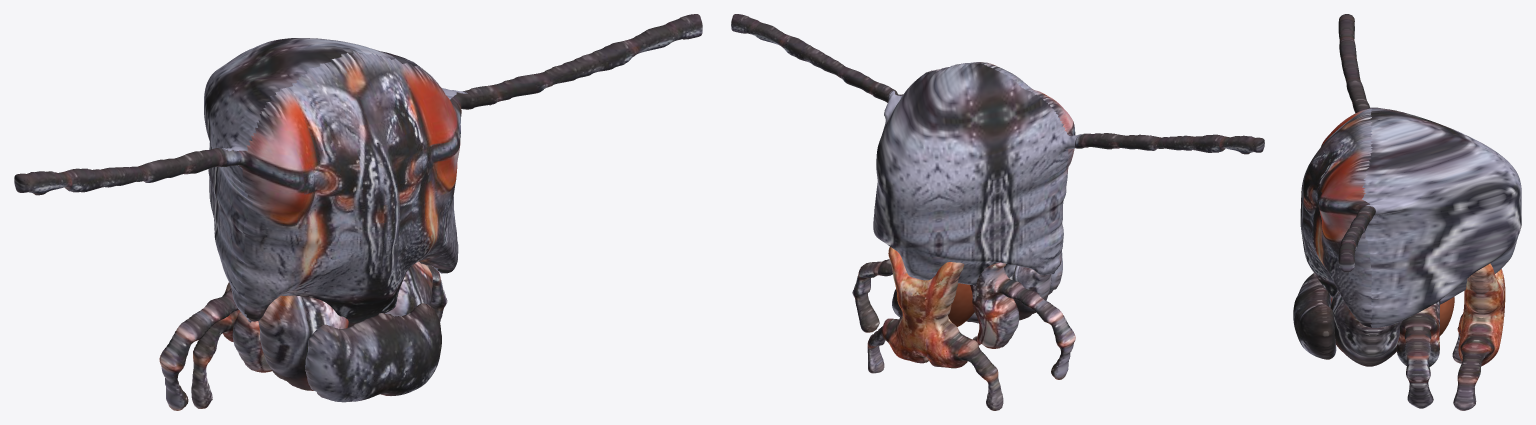
Rendered from grasshopper_mouthparts.glb.
3 renders of one model, left to right at view 1: azimuth 30°, elevation 25°; view 2: azimuth 150°, elevation 25°; view 3: azimuth 270°, elevation 25°, orthographic. The views are drawn at different scales.
Parts seen in each view (by area): view 1: Head_Capsule, Labrum, Mandible_R, Maxilla_R, Labium, Mandible_L; view 2: Head_Capsule, Labium, Maxilla_R, Maxilla_L, Mandible_R, Hypopharynx; view 3: Head_Capsule, Labium, Maxilla_L, Mandible_L, Labrum, Hypopharynx.
Part boxes in pixels (bbox=[...]): Head_Capsule: bbox=[14, 14, 702, 327]; Labrum: bbox=[305, 303, 441, 402]; Mandible_R: bbox=[258, 295, 348, 390]; Maxilla_R: bbox=[159, 288, 272, 410]; Labium: bbox=[191, 282, 239, 408]; Mandible_L: bbox=[385, 261, 432, 316]; Head_Capsule: bbox=[731, 14, 1264, 284]; Labium: bbox=[867, 247, 1003, 410]; Maxilla_R: bbox=[970, 262, 1075, 379]; Maxilla_L: bbox=[852, 259, 902, 332]; Mandible_R: bbox=[1009, 265, 1051, 320]; Hypopharynx: bbox=[948, 283, 974, 326]; Head_Capsule: bbox=[1300, 14, 1521, 327]; Labium: bbox=[1452, 263, 1505, 410]; Maxilla_L: bbox=[1396, 300, 1440, 408]; Mandible_L: bbox=[1330, 291, 1402, 366]; Labrum: bbox=[1293, 273, 1336, 359]; Hypopharynx: bbox=[1439, 297, 1454, 336].
Bounding box in the file's own units: 6.48 × 3.45 × 2.6.
Materials: 9 (9 with a texture image).
